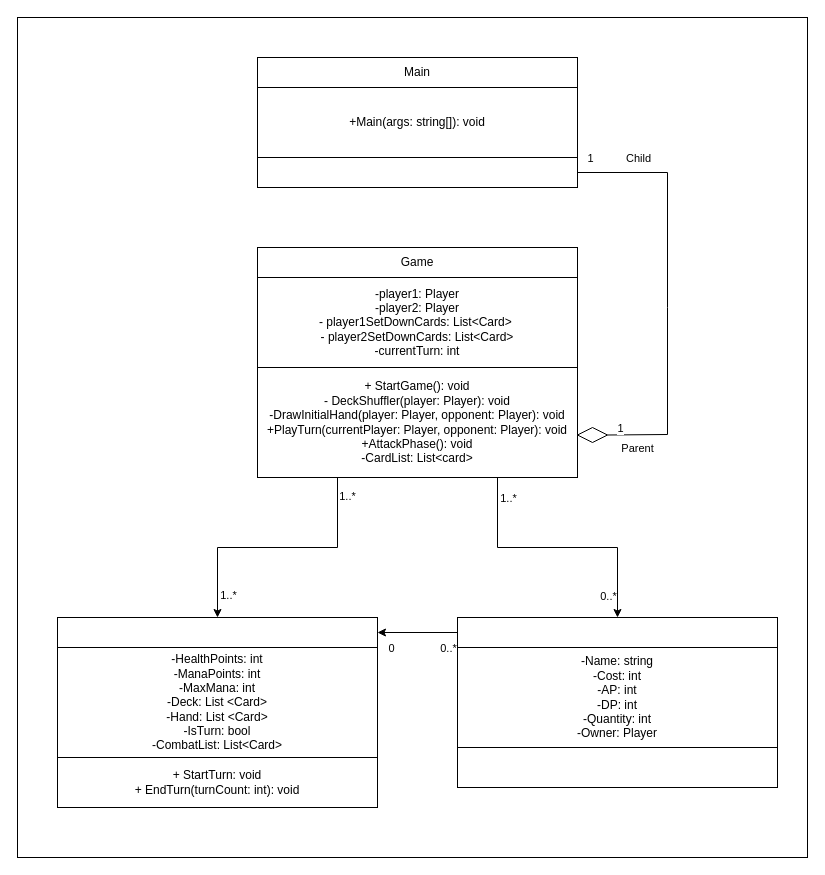
The diagram is 825 pixels wide and 875 high, and some of its shapes have lost their labels. The box of each missing label's shape, as (x1, y1, x2, y2) in pixels:
+Card(name: string, cost: int, ap: int, dp: int, quantity: int): (456, 746, 778, 788)
+StartGame(): (256, 156, 578, 188)
Card: (456, 616, 778, 648)
Player: (56, 616, 378, 648)
